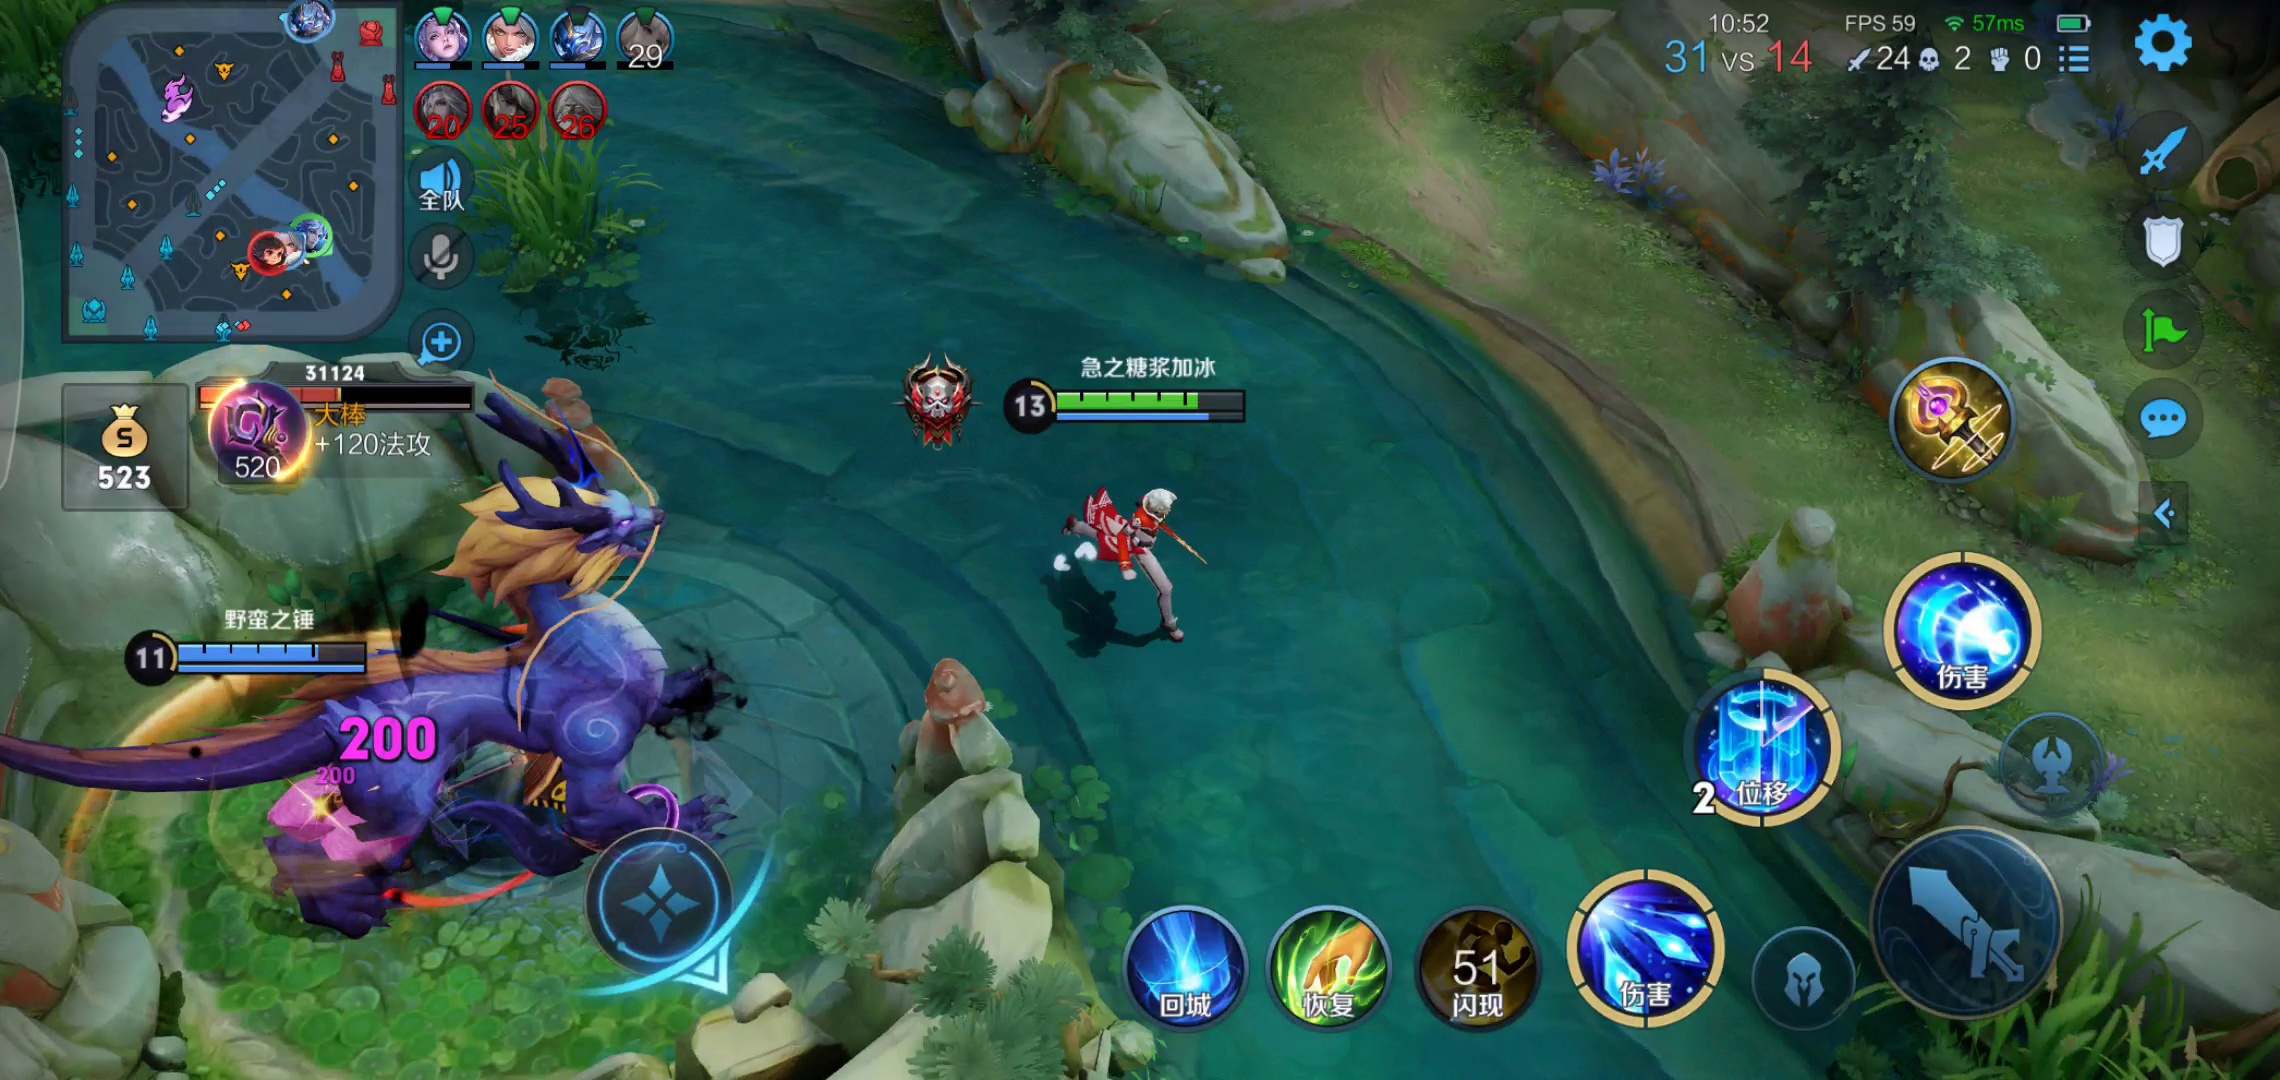dragon: (144, 451, 749, 927)
grass: (1866, 922, 2201, 1080), (458, 124, 660, 302)
hero: (1032, 467, 1255, 661)
